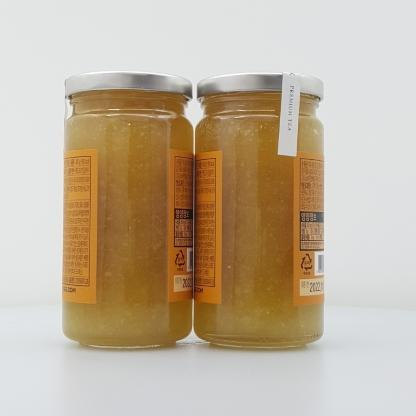--------------400G: (62, 71, 194, 348), (193, 72, 324, 348)
